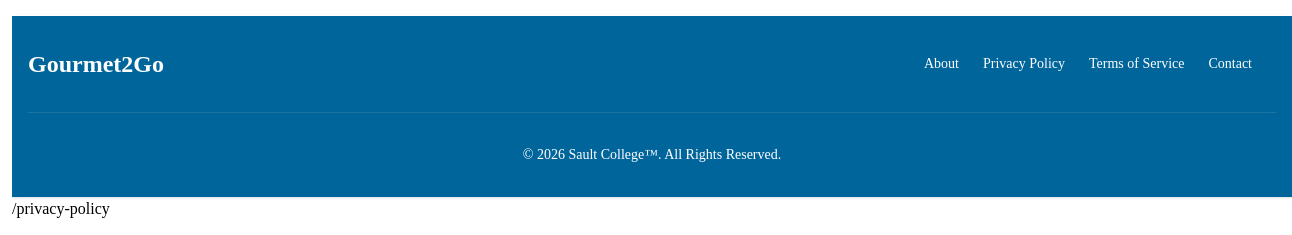
it: Footer component › navigates to Terms of Service page when clicked
This screenshot has width=1292, height=235.
Click the link "Terms of Service": x=1137, y=64 top-left (1089, 56), bottom-right (1184, 71)
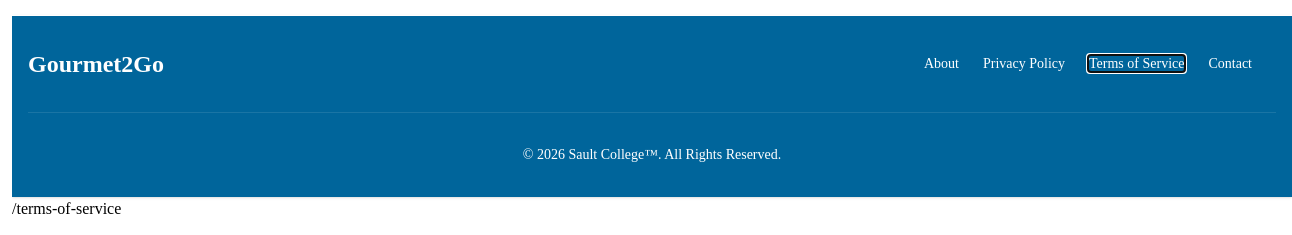
Expected: the text with test id "location" reads "/terms-of-service", top-left (12, 200), bottom-right (121, 217)
